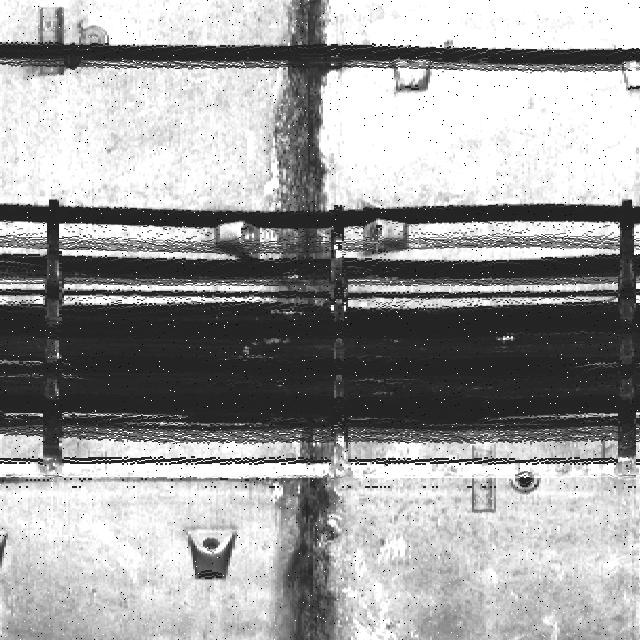leakage: (270, 1, 350, 285), (272, 441, 362, 640)
